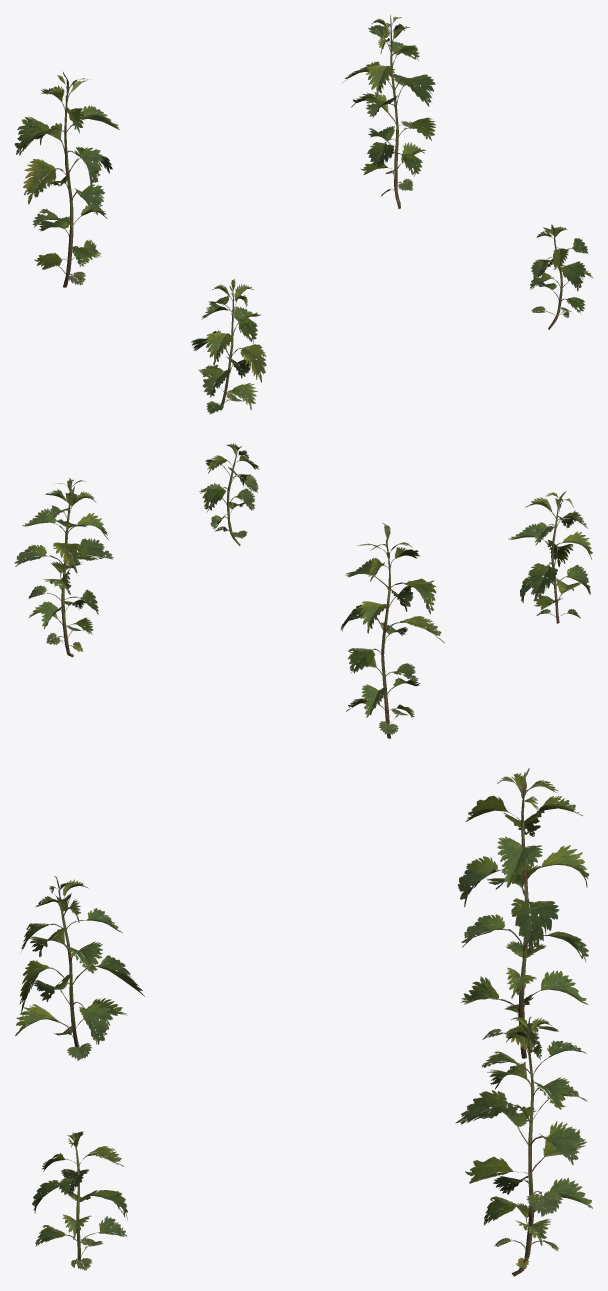
The model's file is arbusto_a.glb.
3 renders of one model, top to bottom at view 1: azimuth 30°, elevation 25°; view 2: azimuth 150°, elevation 25°; view 3: azimuth 270°, elevation 25°, orthographic. The views are drawn at different scales.
Parts seen in each view (by area): view 1: arbusto_a; view 2: arbusto_a; view 3: arbusto_a.
Part boxes in pixels (left/top/right/bottom): arbusto_a: left=14, top=15, right=593, bottom=414; arbusto_a: left=14, top=443, right=592, bottom=738; arbusto_a: left=15, top=768, right=592, bottom=1276.
Bounding box in the file's own units: 0.443 × 0.2167 × 0.3921.
1 material, 1 textured.
